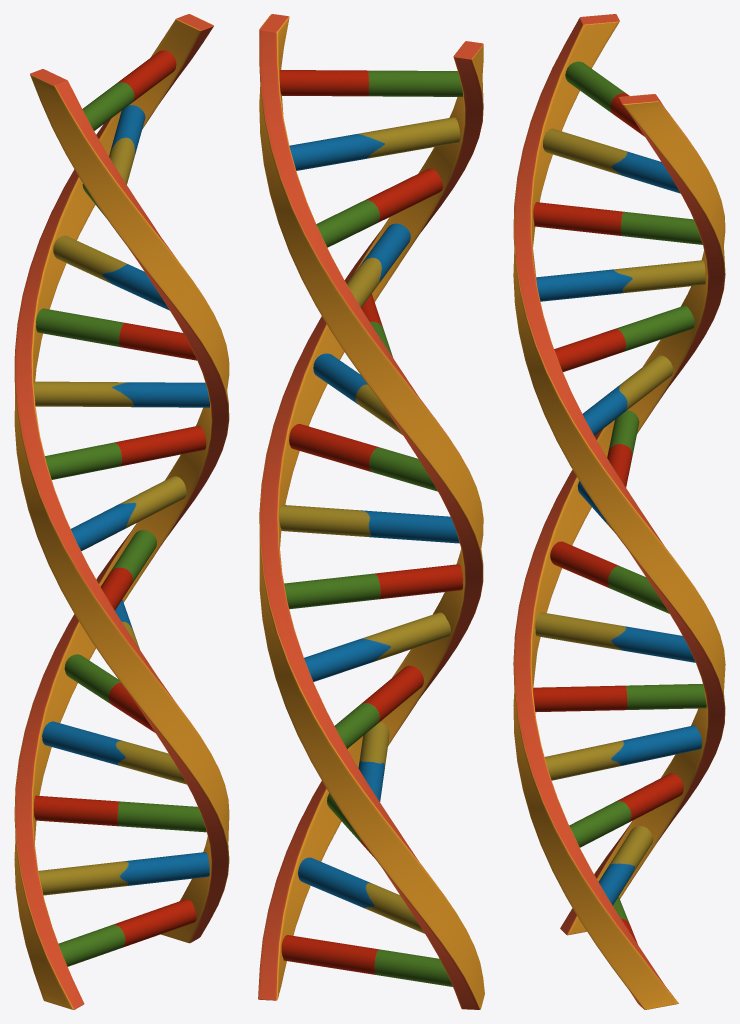
File: dna.obj
3 views of the same model, side by side, from view 1: azimuth 30°, elevation 25°; view 2: azimuth 150°, elevation 25°; view 3: azimuth 270°, elevation 25° (orthographic). The views are drawn at different scales.
Parts seen in each view (by area): view 1: obj1; view 2: obj1; view 3: obj1.
Boxes of the visible parts, x1,y1,x2,y2 form: obj1: [14, 14, 229, 1009]; obj1: [258, 14, 484, 1009]; obj1: [513, 14, 725, 1009].
Bounding box in the file's own units: 0.1098 × 0.512 × 0.1085.
Materials: 1 (1 with a texture image).
